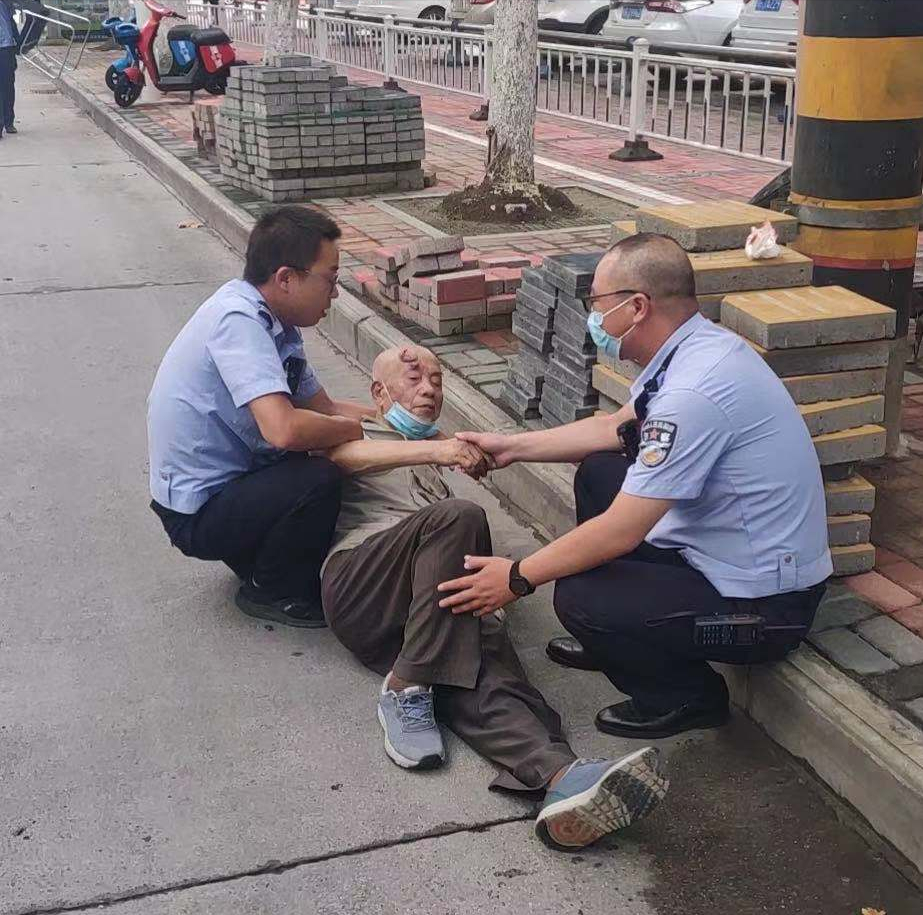falling: (342, 338, 624, 852)
sitting: (528, 240, 829, 750), (144, 207, 368, 618)
